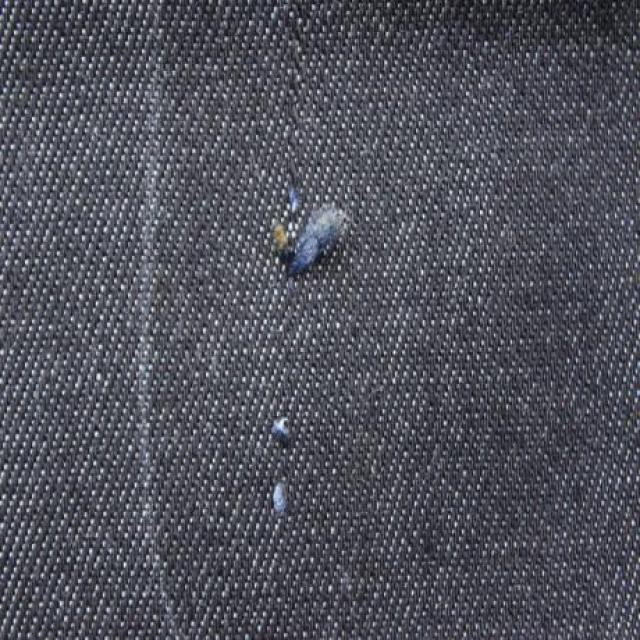Thread_other: (208, 116, 386, 550)
